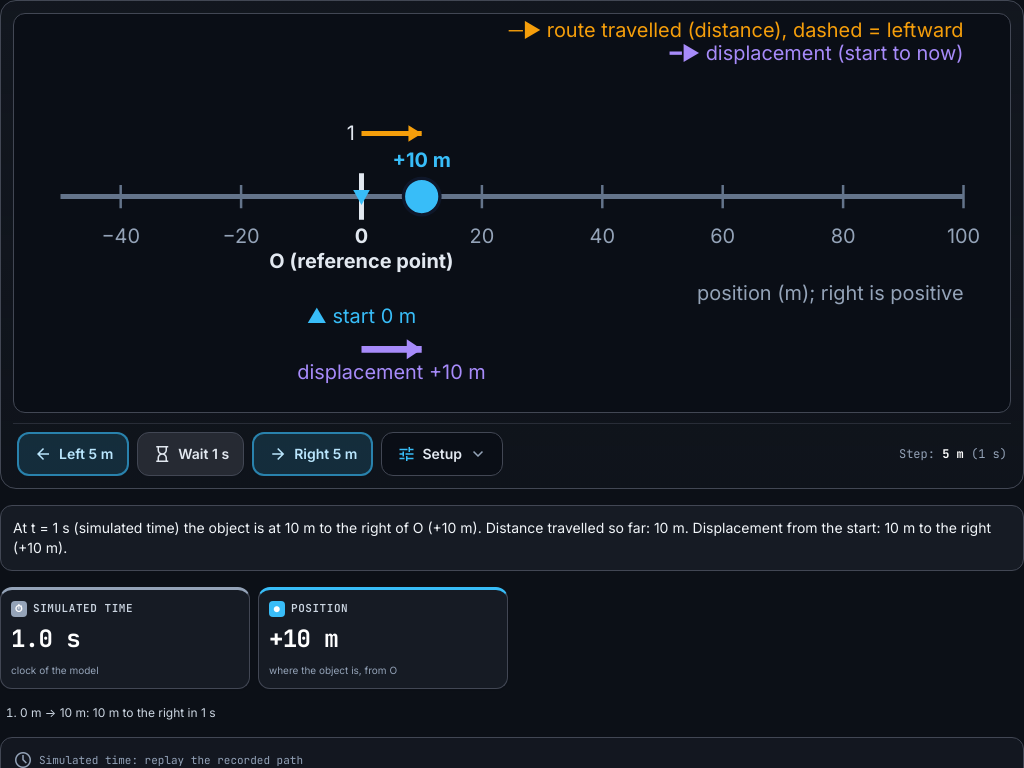
Scenario: Collapsible experiment setup interaction tests › MotionTrackView: toggle opens and closes motion-setup-panel without resetting
Step 1. Click the button with test id "motion-setup-toggle" → [442, 454], box x1=382 y1=432 x2=503 y2=476
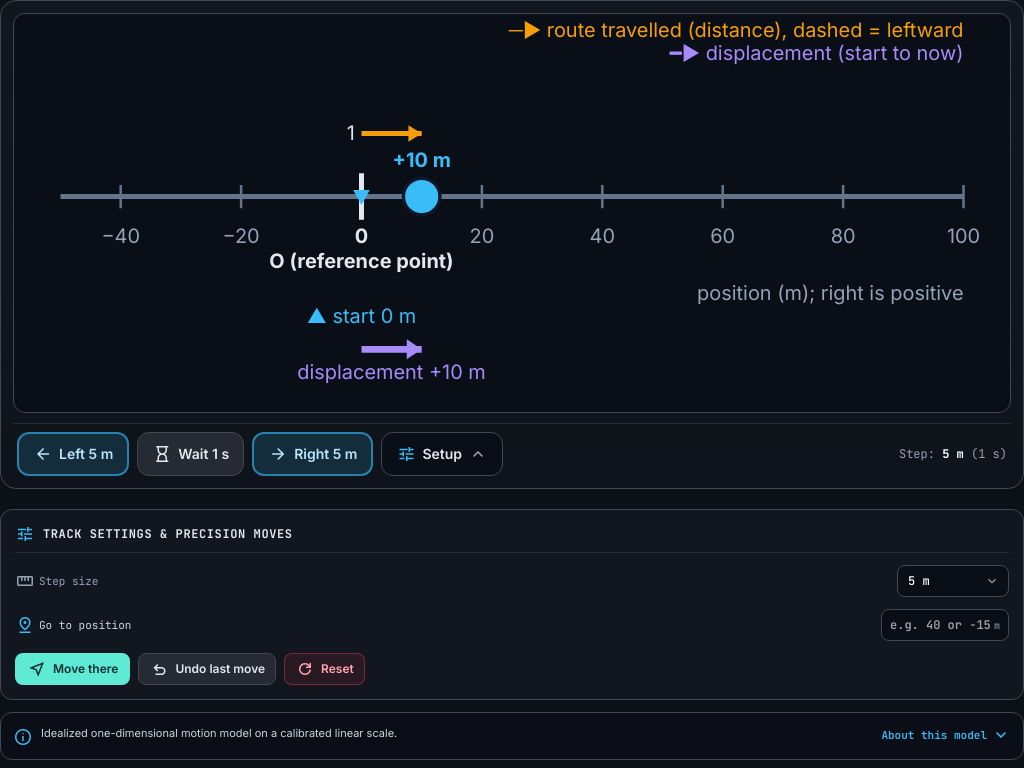
Expected: the button with test id "motion-setup-toggle" is expanded
Step 2. Click the button with test id "motion-setup-toggle" → [442, 454], box x1=382 y1=432 x2=503 y2=476
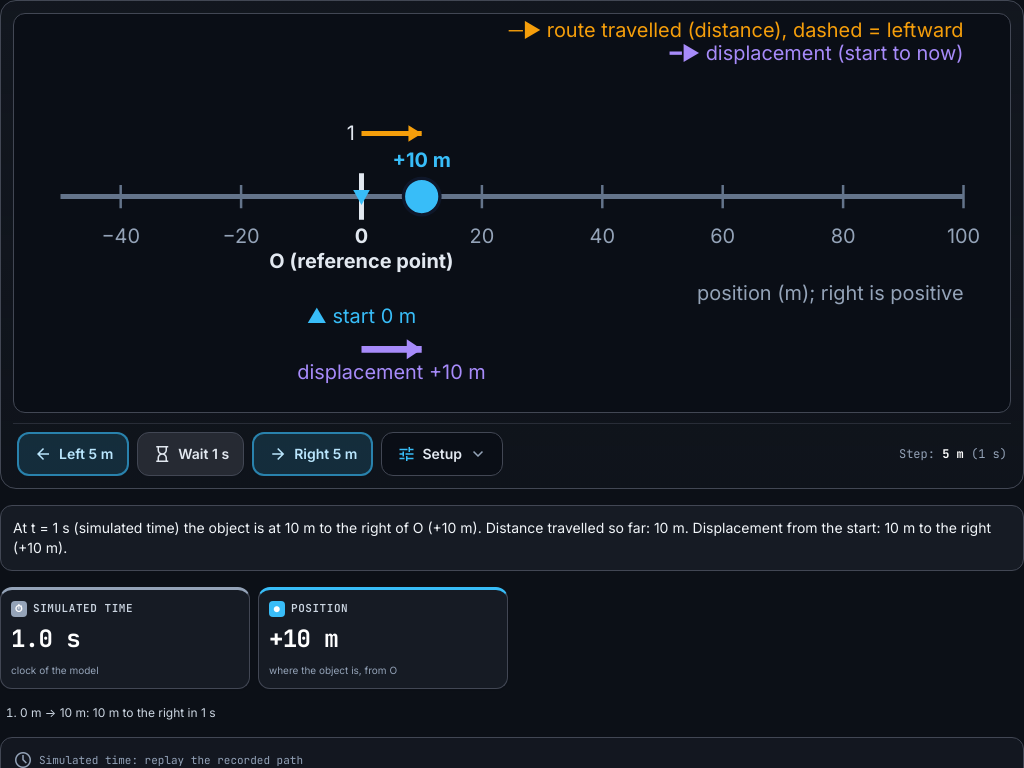
Expected: the button with test id "motion-setup-toggle" is collapsed, x1=382 y1=432 x2=503 y2=476
